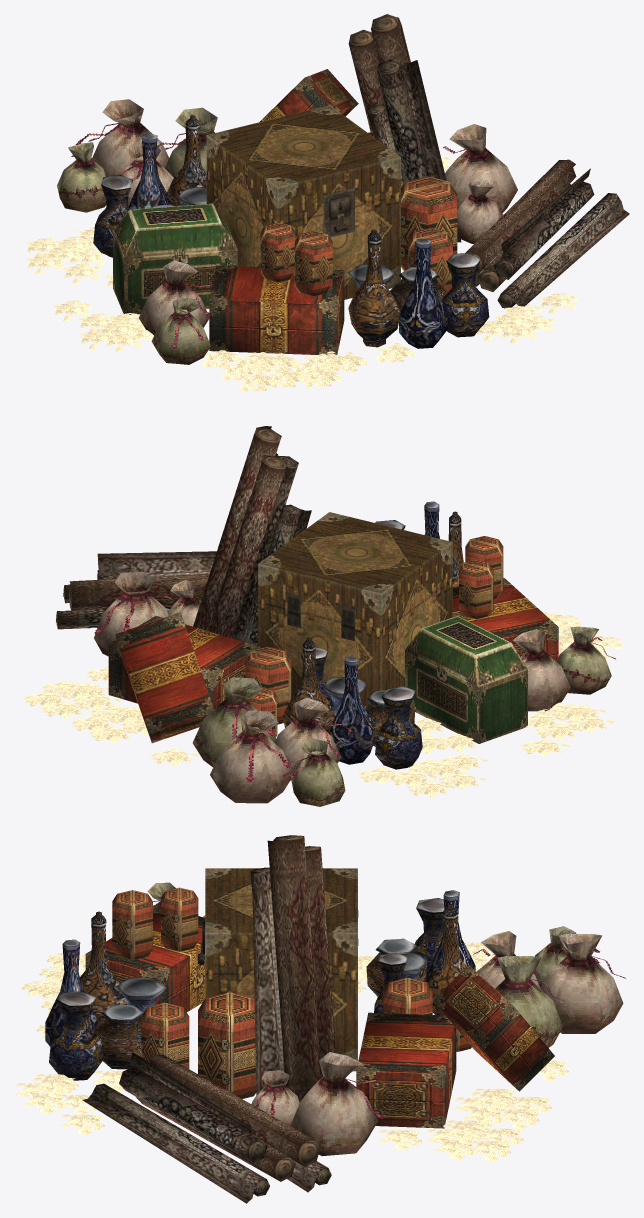
Rendered from thief_vill_object12_01.glb.
3 renders of one model, top to bottom at view 1: azimuth 30°, elevation 25°; view 2: azimuth 150°, elevation 25°; view 3: azimuth 270°, elevation 25°, orthographic. The views are drawn at different scales.
Parts seen in each view (by area): view 1: thief_vill_object12_02, thief_vill_object12_04, thief_vill_object12_05, thief_vill_object12_03, thief_vill_object12_01, thief_vill_object12_06; view 2: thief_vill_object12_02, thief_vill_object12_04, thief_vill_object12_01, thief_vill_object12_03, thief_vill_object12_05, thief_vill_object12_06; view 3: thief_vill_object12_02, thief_vill_object12_04, thief_vill_object12_05, thief_vill_object12_01, thief_vill_object12_03, thief_vill_object12_06.
Part boxes in pixels (x1,y1,x2,y2): thief_vill_object12_02: (113, 69, 457, 354); thief_vill_object12_04: (348, 14, 629, 308); thief_vill_object12_05: (93, 115, 489, 348); thief_vill_object12_03: (25, 148, 578, 391); thief_vill_object12_01: (75, 99, 517, 335); thief_vill_object12_06: (57, 107, 217, 364); thief_vill_object12_02: (108, 512, 558, 743); thief_vill_object12_04: (56, 426, 311, 645); thief_vill_object12_01: (94, 571, 570, 803); thief_vill_object12_03: (23, 612, 623, 797); thief_vill_object12_05: (282, 501, 463, 769); thief_vill_object12_06: (192, 626, 615, 806); thief_vill_object12_02: (85, 868, 554, 1128); thief_vill_object12_04: (82, 835, 335, 1203); thief_vill_object12_05: (45, 890, 475, 1080); thief_vill_object12_01: (203, 915, 625, 1156); thief_vill_object12_03: (16, 935, 568, 1161); thief_vill_object12_06: (147, 882, 599, 1047).
Size of the model in its own units: 4.86 by 2 by 4.41.
6 materials, 6 textured.
